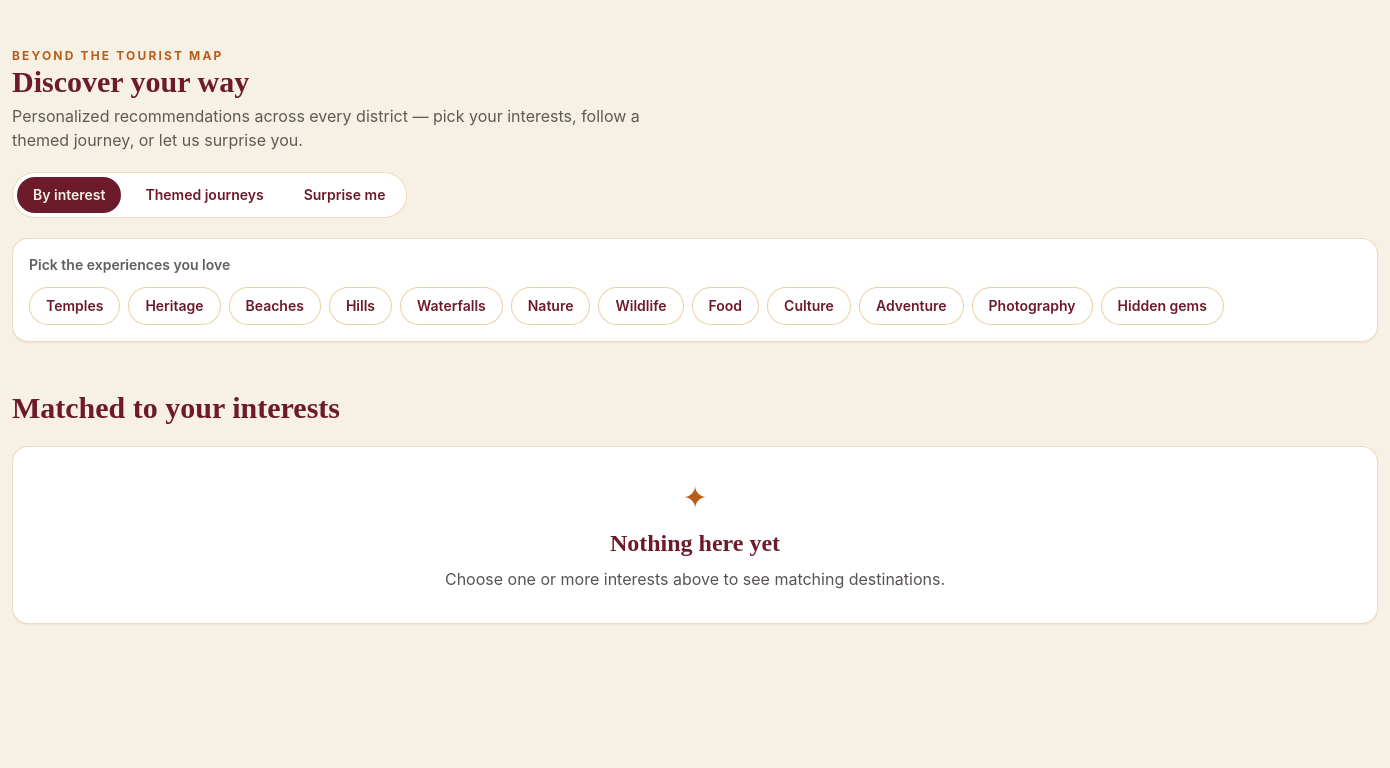
Test: PersonalizedDiscovery › fetches a themed journey by slug and renders its picks (Req 8.3)
Click the tab "Themed journeys" at (205, 195), box 130,177 -> 280,213
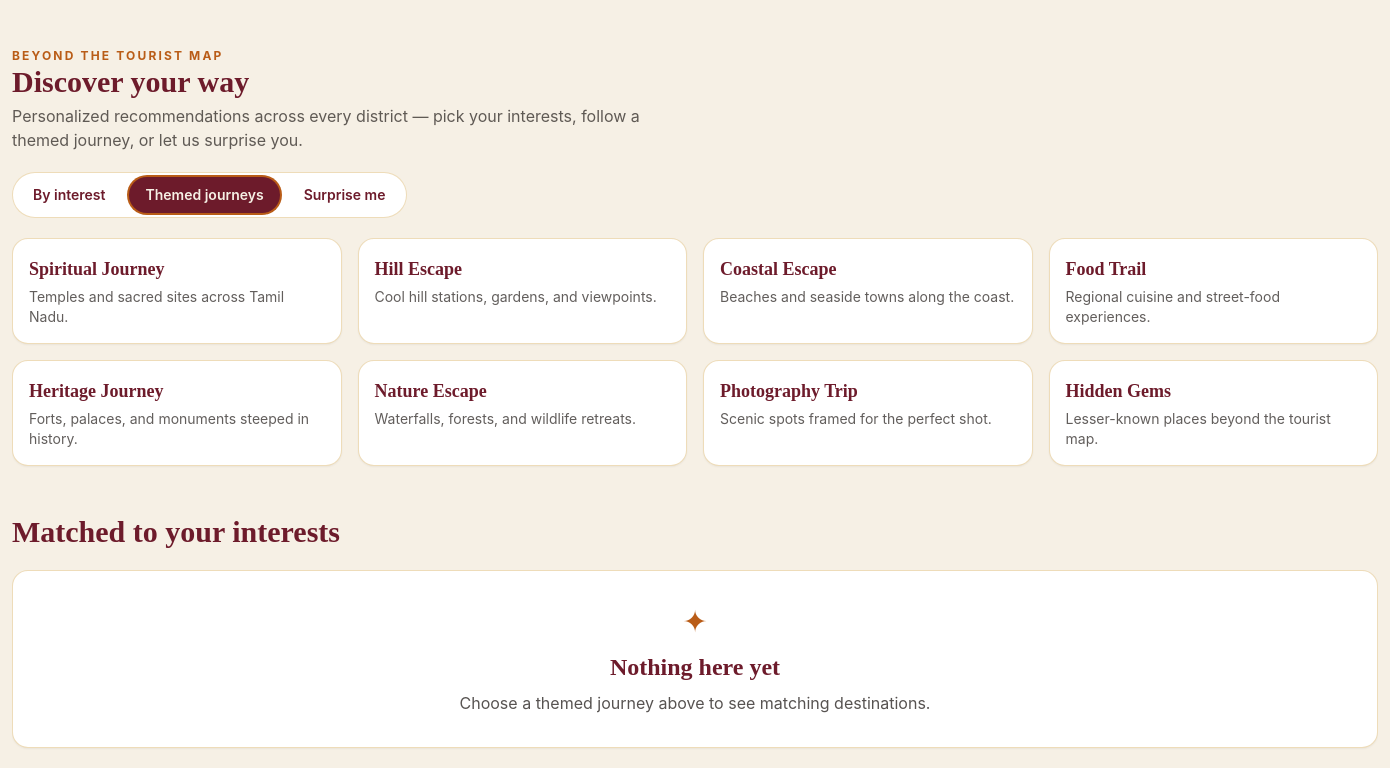
Click the button "Hill Escape Cool hill stations, gardens, and viewpoints." at (522, 291), box 358,238 -> 687,344
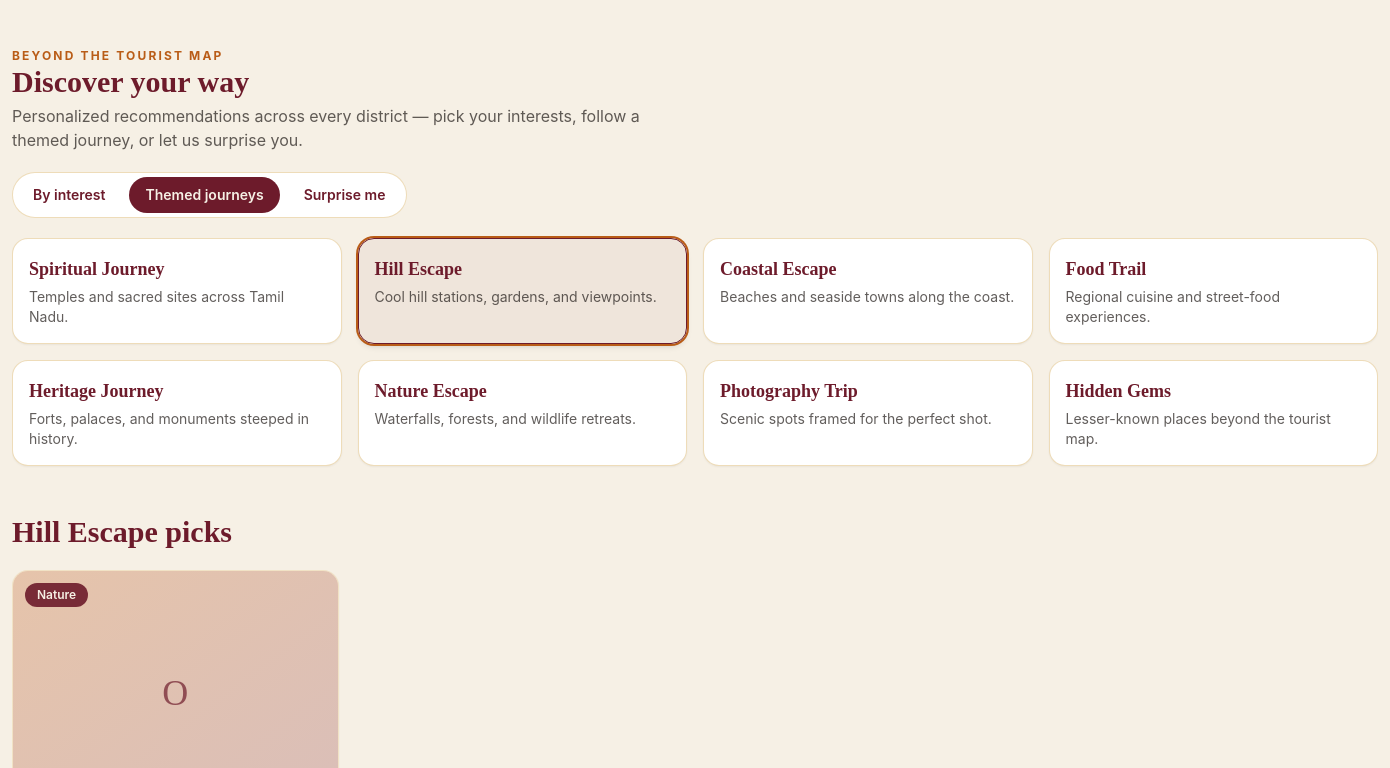
Now the heading "Hill Escape picks" is shown, box 12,514 -> 232,550
